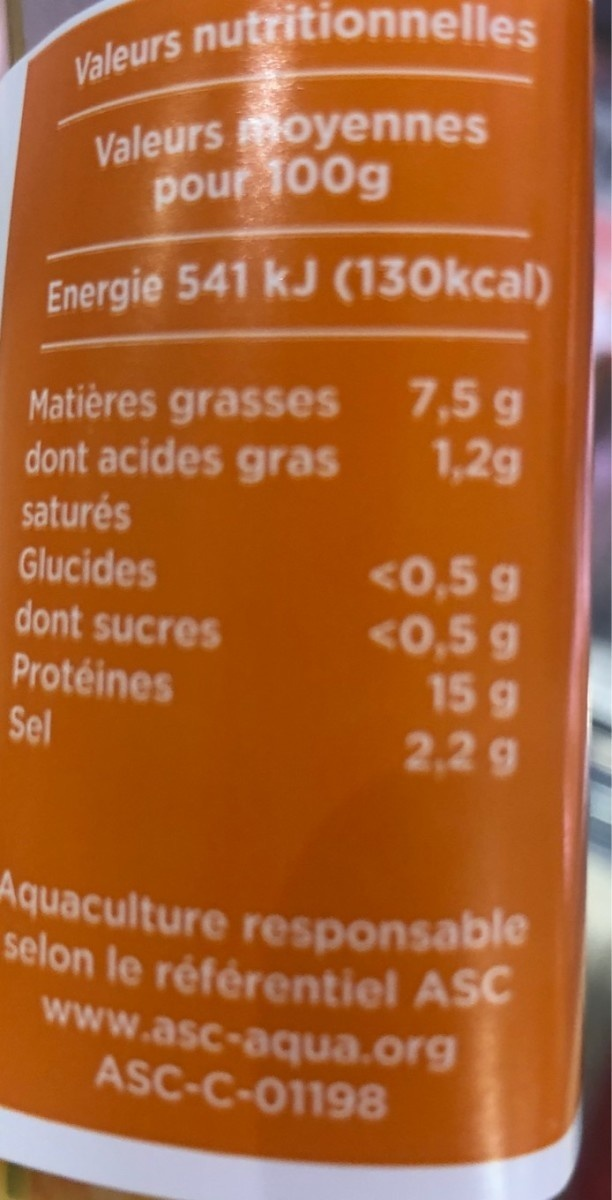column: (10, 381, 339, 768), (366, 377, 524, 782)
table: (7, 369, 531, 800)
